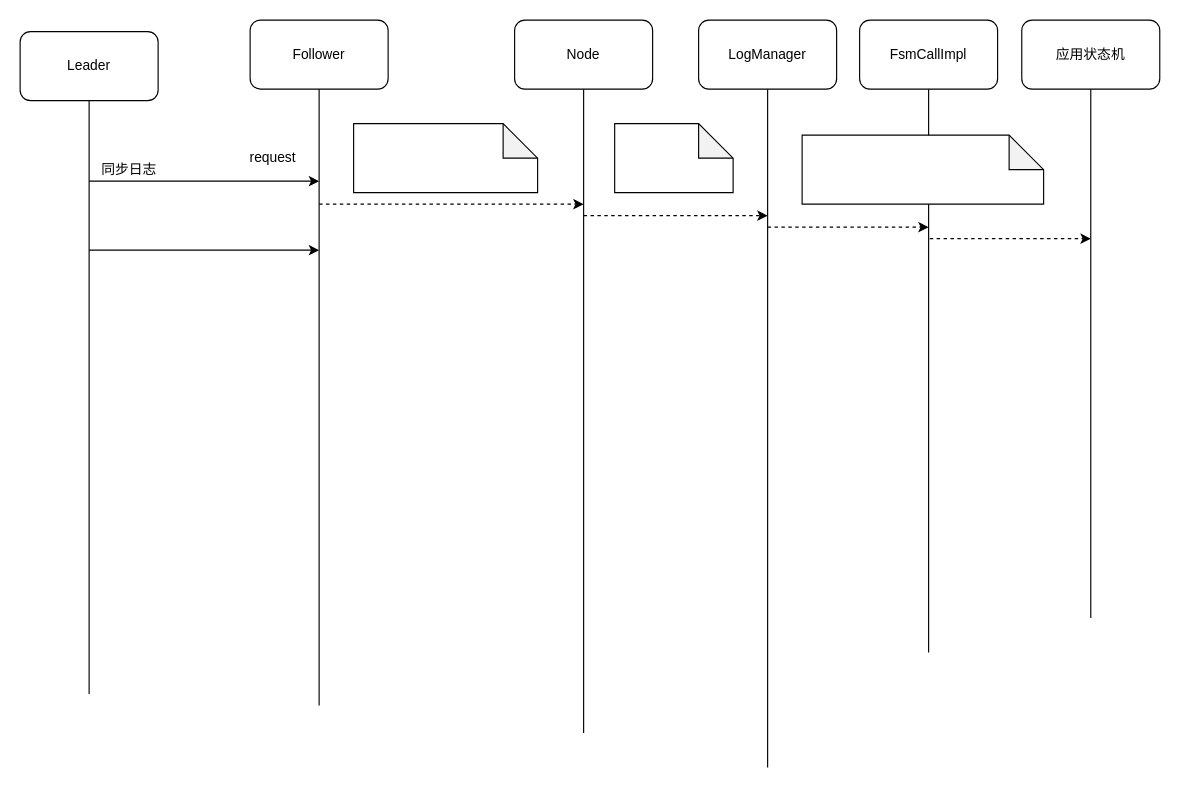
This 1180x789 diagram has some shape labels left out. Each missing label, with the centre of its shape:
日志Apply: [922,169]
这里会检查同步的日志是否match 本地日志: [445,157]
这里会检查同步的日志是否已经Apply: [673,157]
